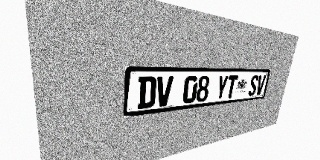0: (182, 76, 198, 104)
8: (195, 76, 211, 102)
D: (137, 76, 157, 109)
S: (247, 75, 259, 96)
T: (225, 75, 238, 99)
V: (155, 76, 174, 107), (255, 75, 266, 95)
Y: (215, 75, 229, 100)
